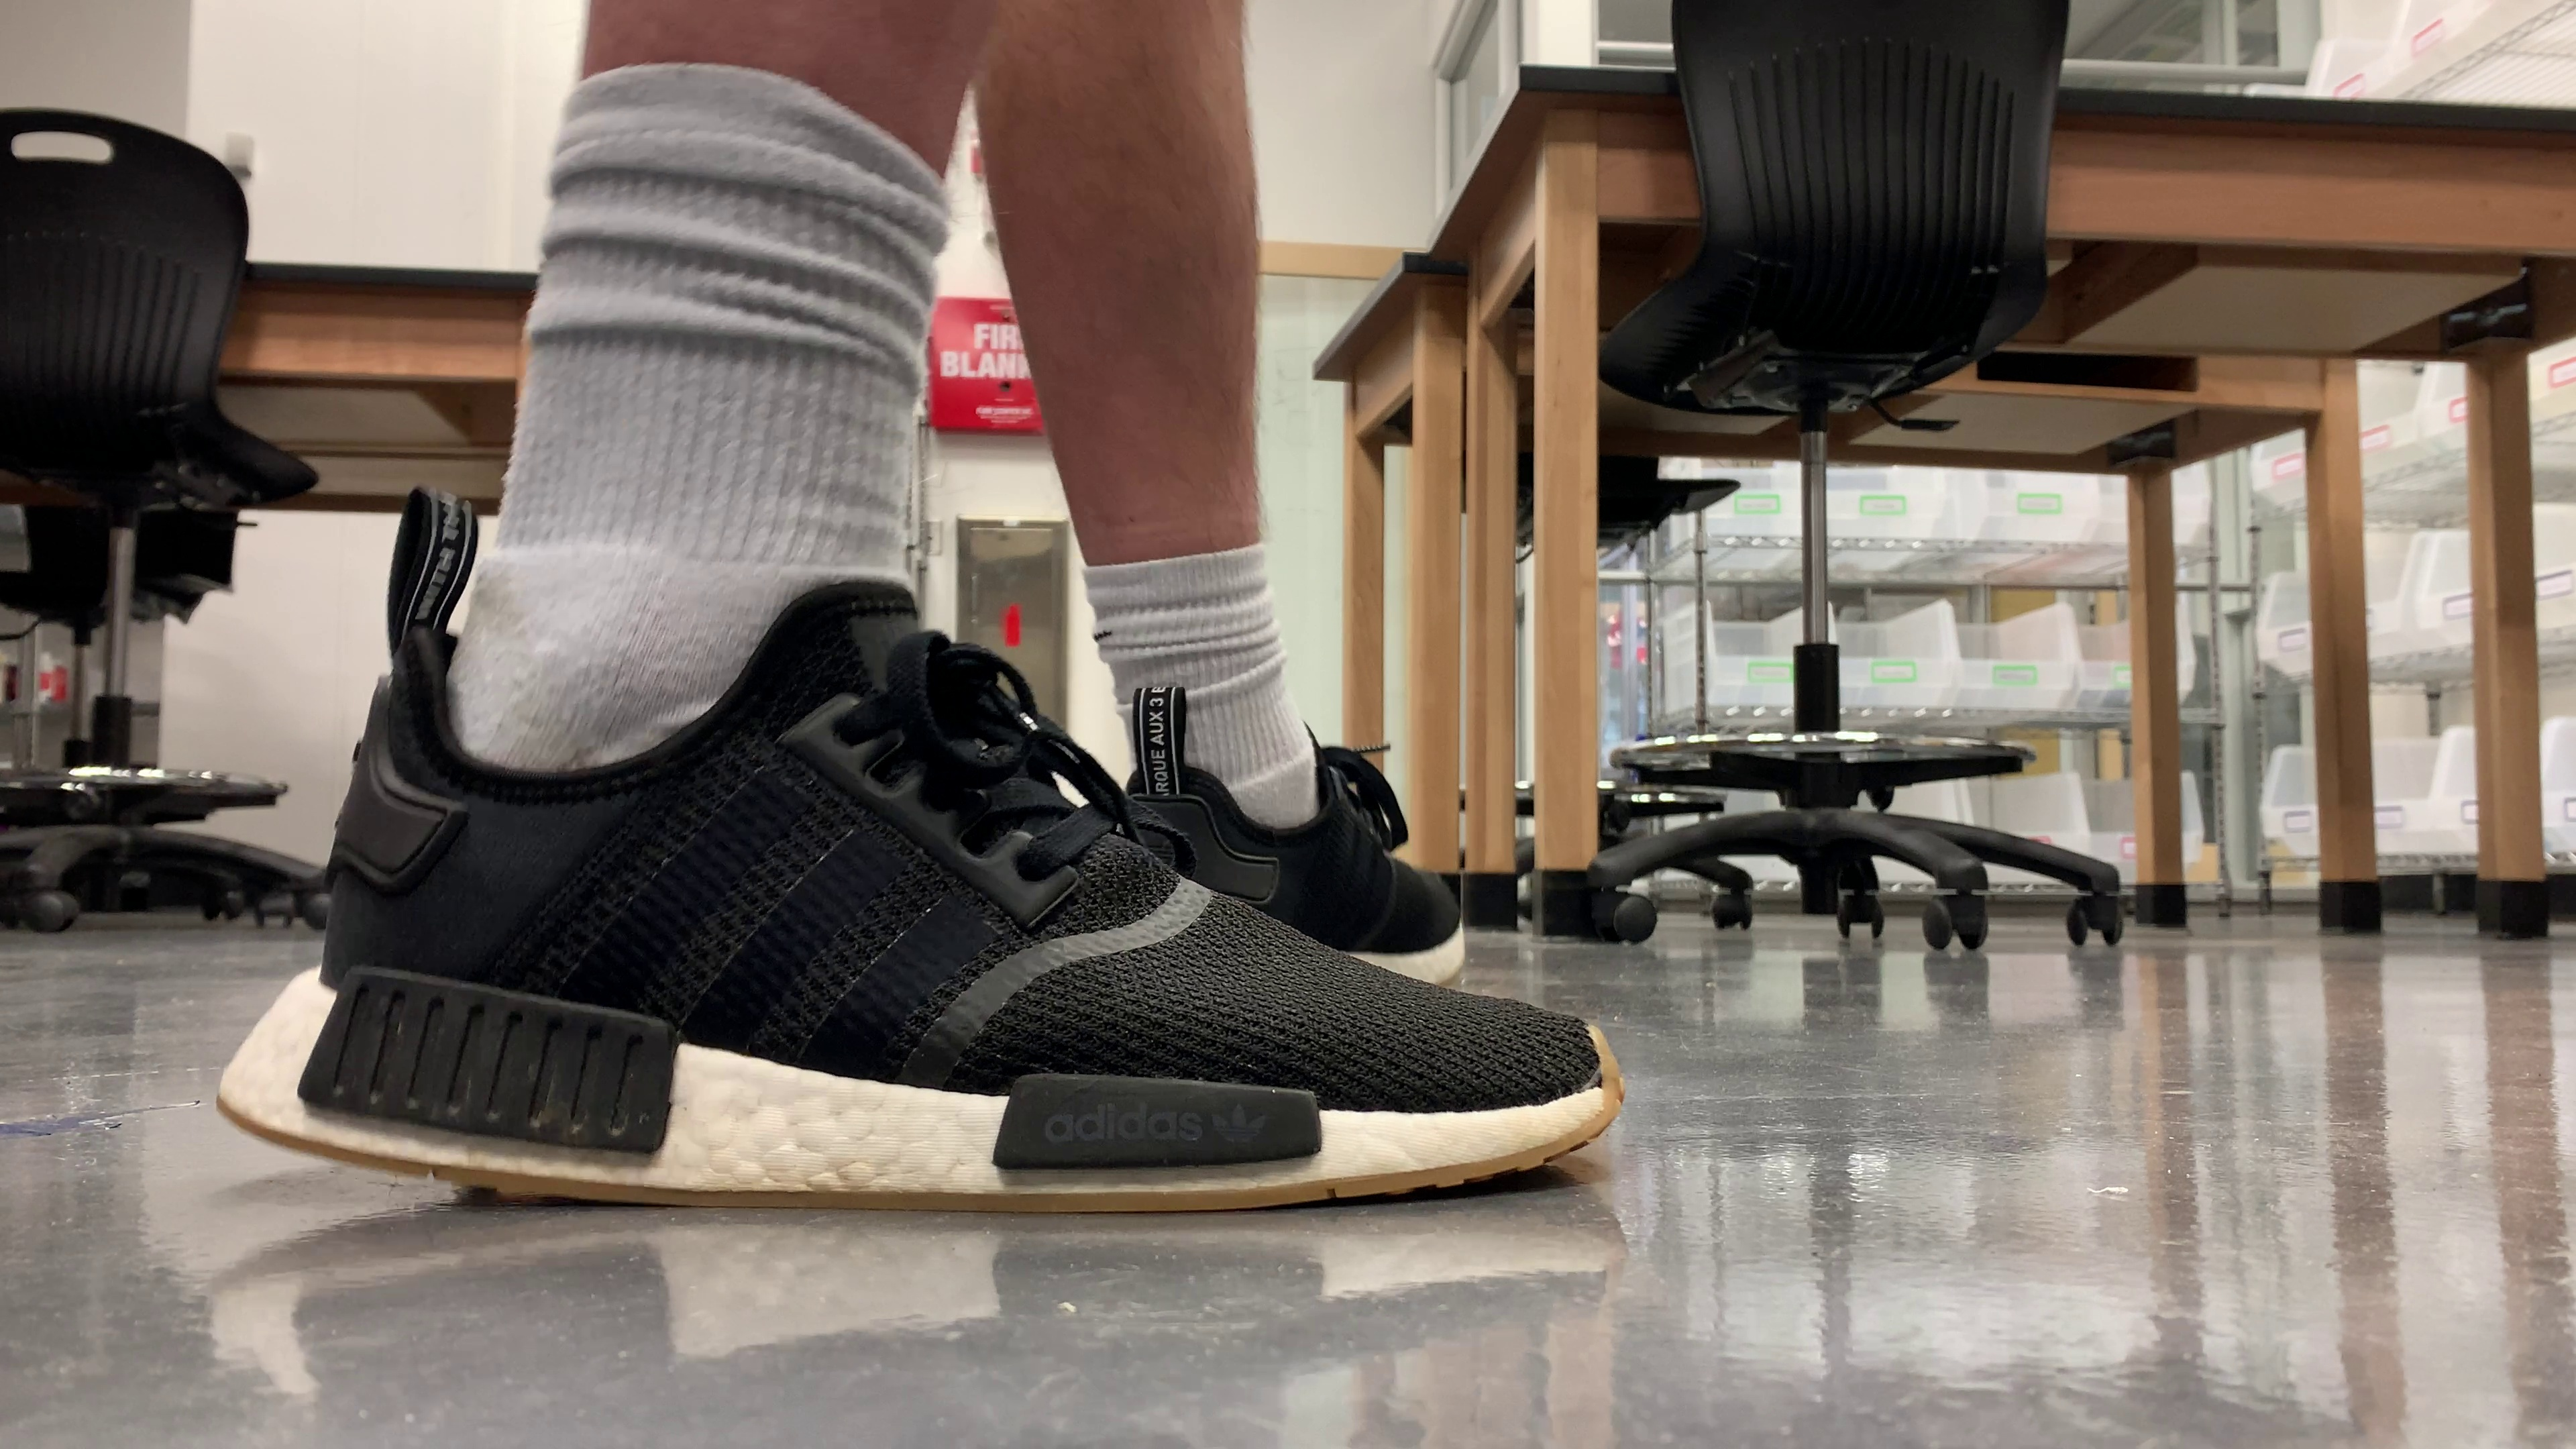shoe: (214, 580, 1624, 1212), (1097, 725, 1465, 987)
